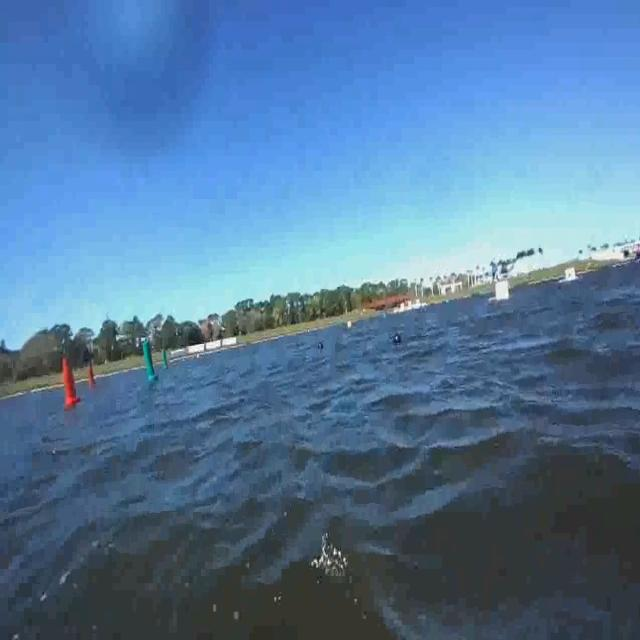black-buoy: (392, 332, 402, 348)
green-column-buoy: (142, 341, 158, 382), (163, 349, 170, 368)
red-column-buoy: (60, 356, 81, 406), (89, 361, 97, 385)
